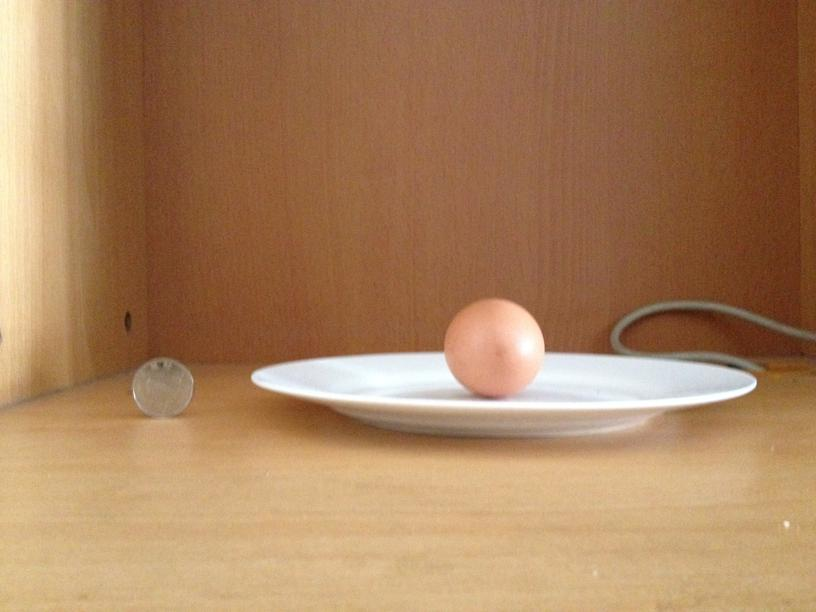coin: (126, 356, 193, 419)
egg: (444, 298, 546, 396)
